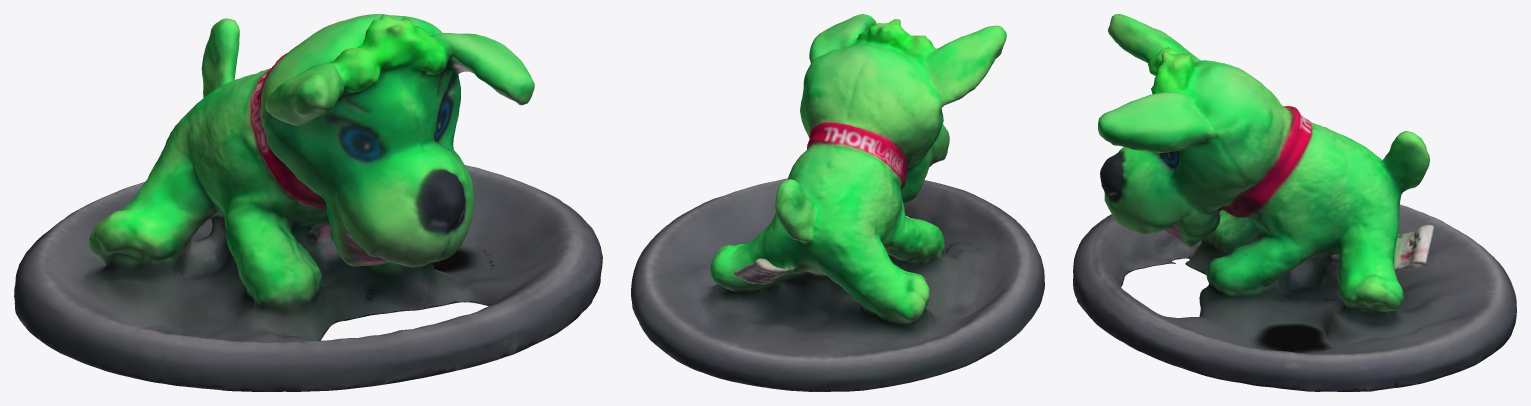
File: dog.glb
3 views of the same model, side by side, from view 1: azimuth 30°, elevation 25°; view 2: azimuth 150°, elevation 25°; view 3: azimuth 270°, elevation 25° (orthographic). The views are drawn at different scales.
Visible parts, largest first — view 1: geometry_0; view 2: geometry_0; view 3: geometry_0.
Part boxes in pixels (x1,y1,x2,y2): geometry_0: (14, 14, 602, 391); geometry_0: (631, 14, 1044, 391); geometry_0: (1073, 14, 1516, 391).
Size of the model in its own units: 1.38 by 0.8978 by 1.38.
1 material, 1 textured.
